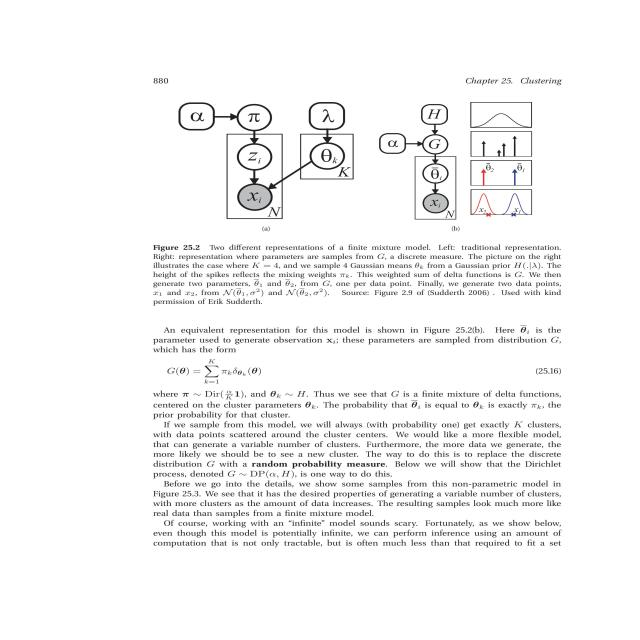diagram: (108, 100, 599, 313)
